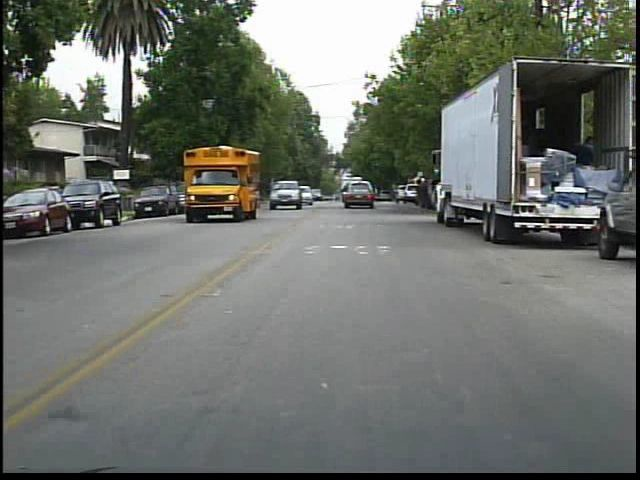person: (411, 174, 433, 220)
